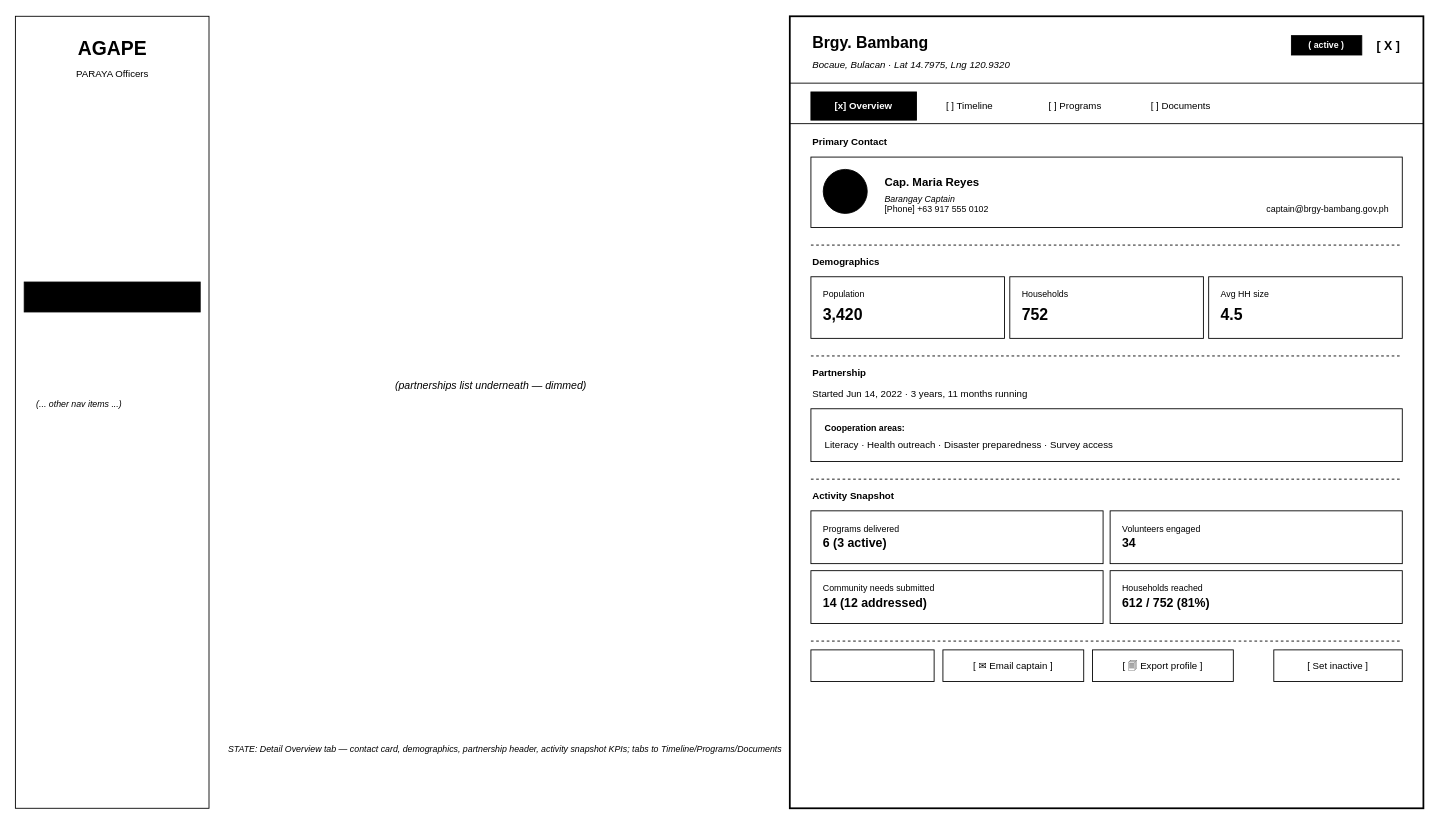
The diagram is 1440 pixels wide and 824 high, and some of its shapes have lost their labels. Here are the shapes that lost their labels. From the top down, the centre of each, then its label:
At point 844,191: "MR".
At point 111,296: "[x] Partnerships".
At point 872,665: "[ ✎ Edit ]".
